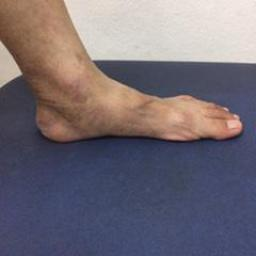Medial View -Left Foot-: (14, 62, 249, 165)
